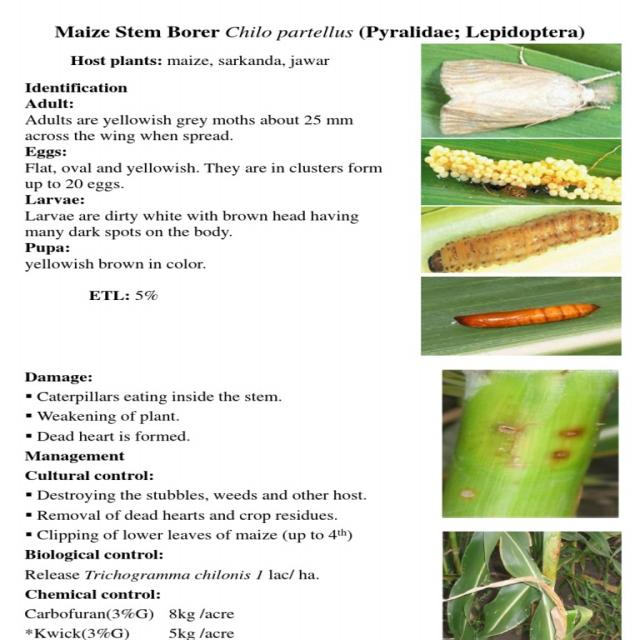cornborer-Adult-: (434, 47, 610, 133)
cornborer-Larva-: (426, 207, 618, 271)
